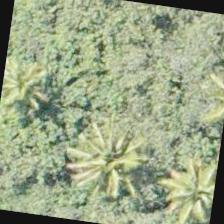Kelapa_Sawit: (64, 111, 166, 213), (0, 28, 74, 127), (137, 145, 220, 223)
